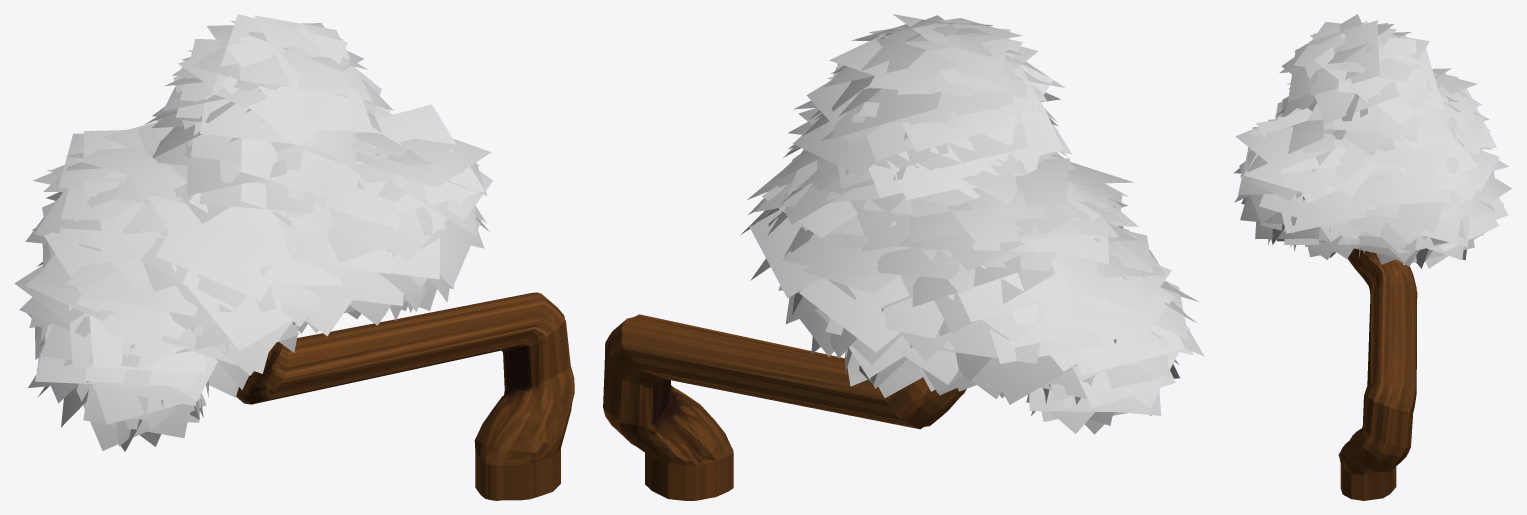
File: ObstacleSlide.fbx
3 renders of one model, left to right at view 1: azimuth 30°, elevation 25°; view 2: azimuth 150°, elevation 25°; view 3: azimuth 270°, elevation 25°, orthographic. The views are drawn at different scales.
Parts seen in each view (by area): view 1: SM_Trunk01_Leaves02, SM_Trunk01; view 2: SM_Trunk01_Leaves02, SM_Trunk01; view 3: SM_Trunk01_Leaves02, SM_Trunk01.
Part boxes in pixels (x1,y1,x2,y2): SM_Trunk01_Leaves02: (14, 14, 492, 451); SM_Trunk01: (236, 292, 574, 500); SM_Trunk01_Leaves02: (741, 14, 1204, 434); SM_Trunk01: (603, 314, 966, 500); SM_Trunk01_Leaves02: (1234, 14, 1512, 268); SM_Trunk01: (1338, 248, 1417, 500).
Bounding box in the file's own units: 501 × 446 × 298.
2 materials, 1 textured.
